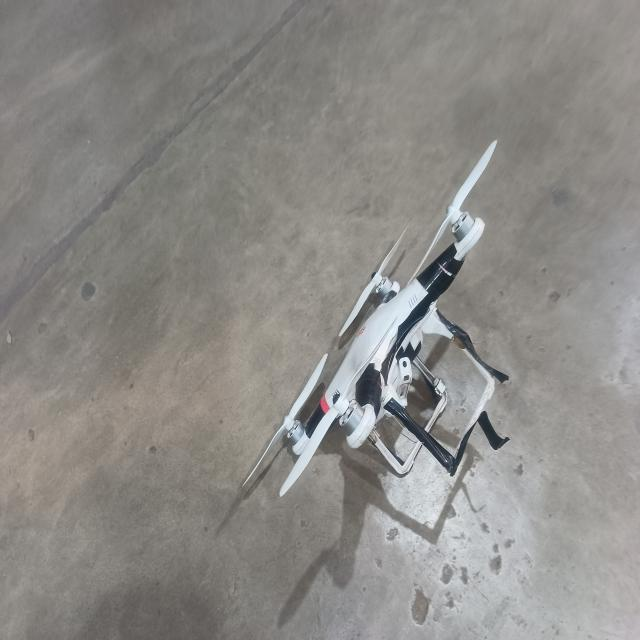drone: (242, 130, 545, 544)
